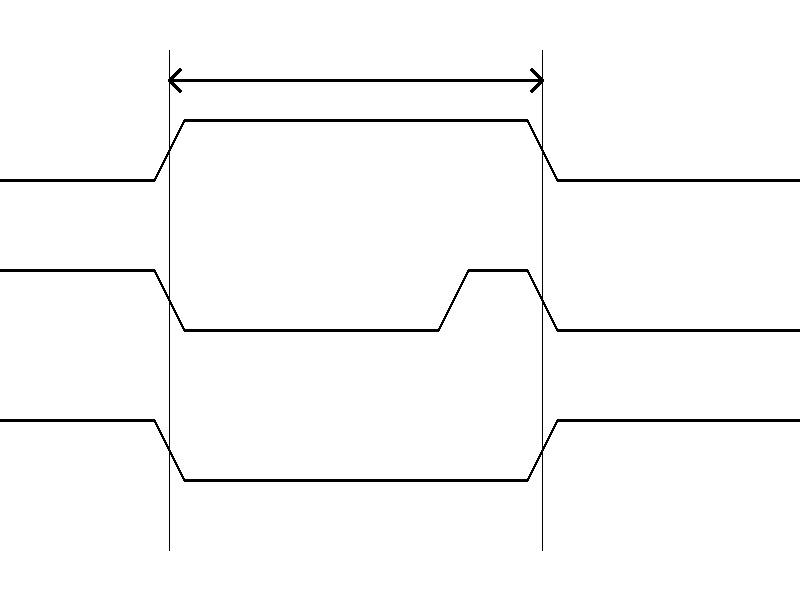double_arrow: (169, 65, 542, 95)
